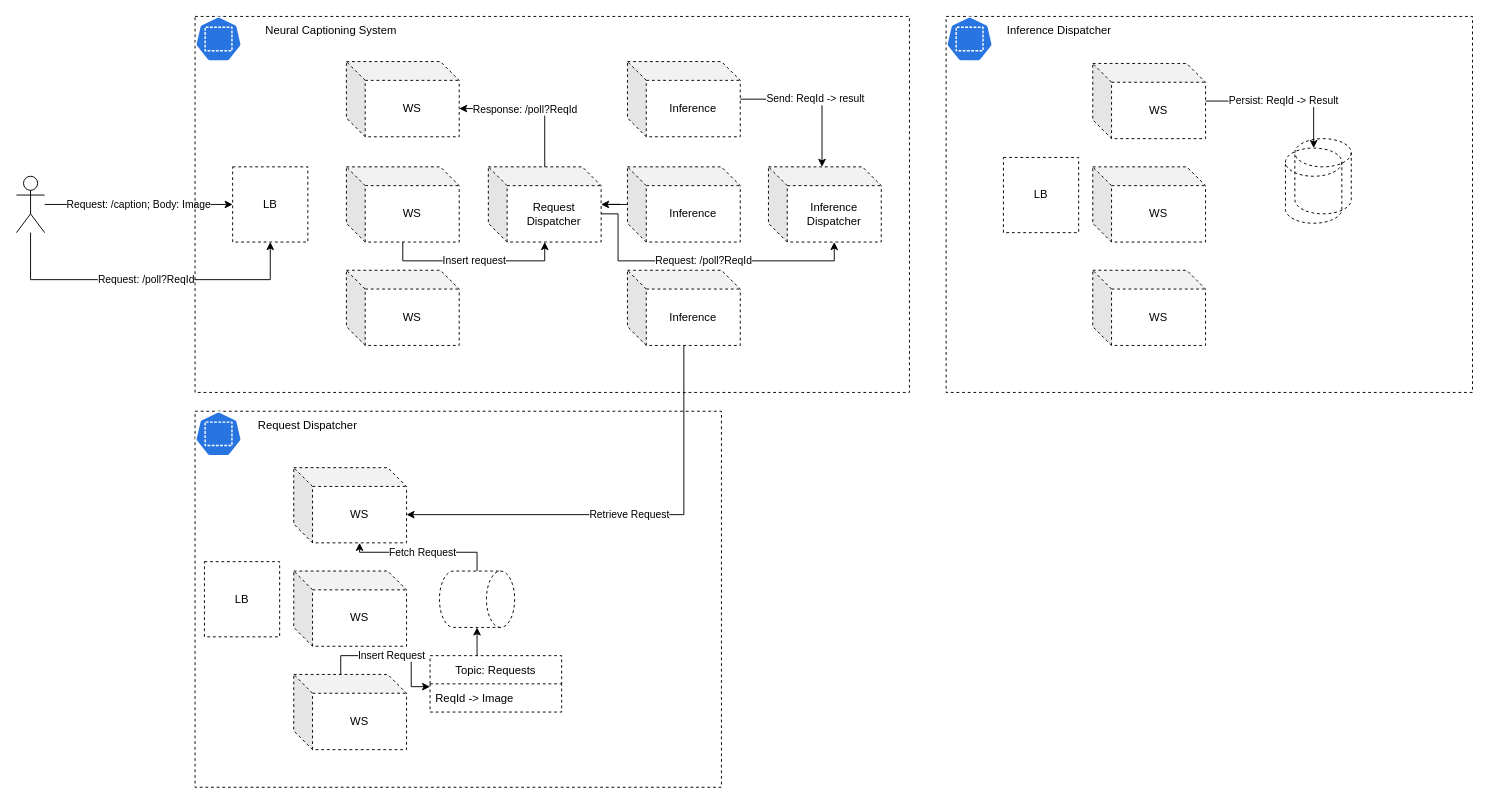
The diagram is 1489 pixels wide and 804 high, and some of its shapes have lost their labels. Each missing label, with the centre of its shape:
Actor: (x=30, y=204)
Kafka: (x=477, y=598)
Redis: (x=1313, y=185)
